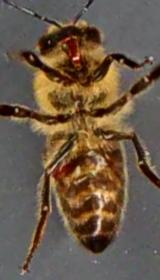varroa_mite: (49, 149, 78, 184)
